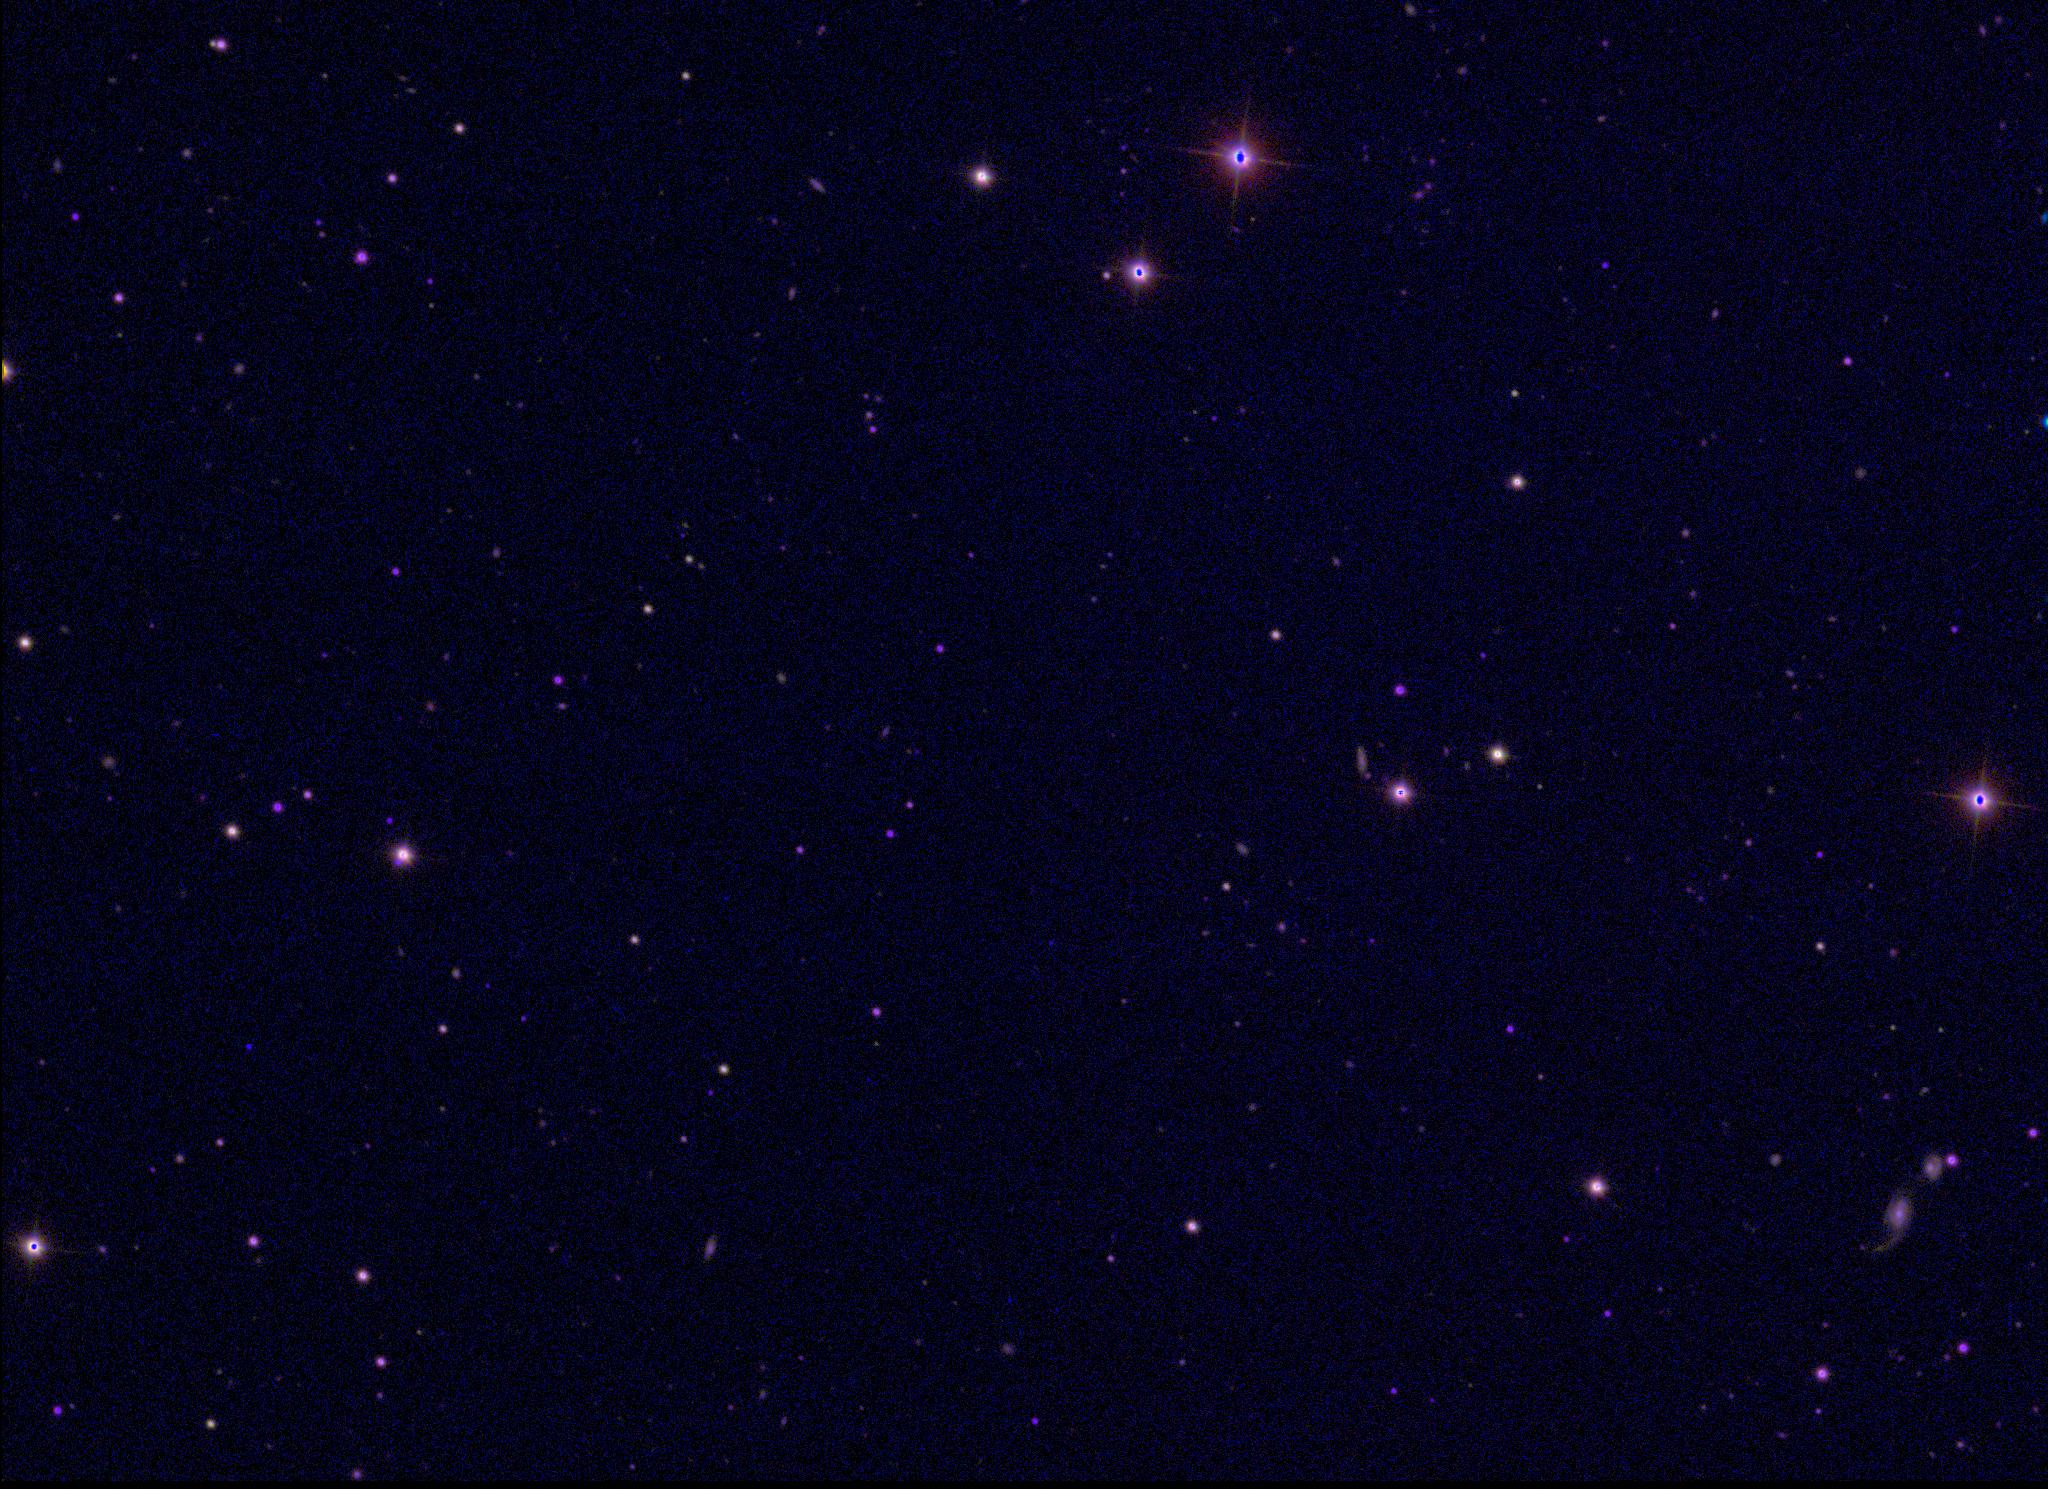L: (242, 1039, 256, 1053)
